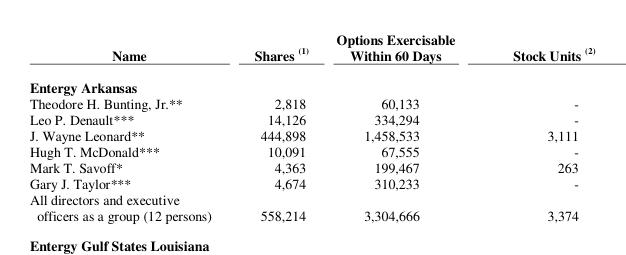table: (28, 29, 594, 223)
table column: (28, 29, 232, 223), (321, 29, 483, 223), (483, 29, 594, 223), (232, 29, 321, 223)
table column header: (28, 29, 594, 71)
table projected row header: (28, 71, 594, 95), (28, 190, 594, 206)
table row: (28, 29, 594, 71), (28, 71, 594, 95), (28, 206, 594, 223), (28, 110, 594, 126), (28, 126, 594, 142), (28, 142, 594, 158), (28, 158, 594, 174), (28, 174, 594, 190), (28, 190, 594, 206), (28, 95, 594, 110)
